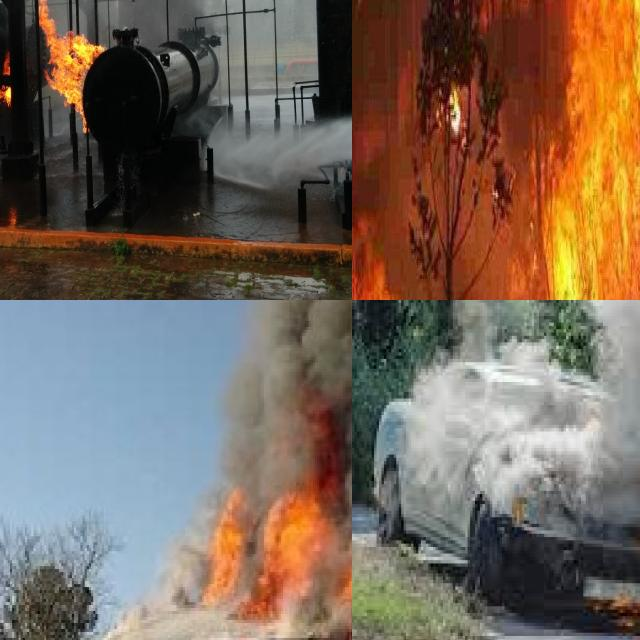fire: (352, 0, 640, 300), (202, 479, 352, 640), (32, 0, 108, 134), (0, 53, 10, 108)
smoke: (411, 300, 640, 507), (225, 300, 352, 497), (119, 509, 202, 626)
